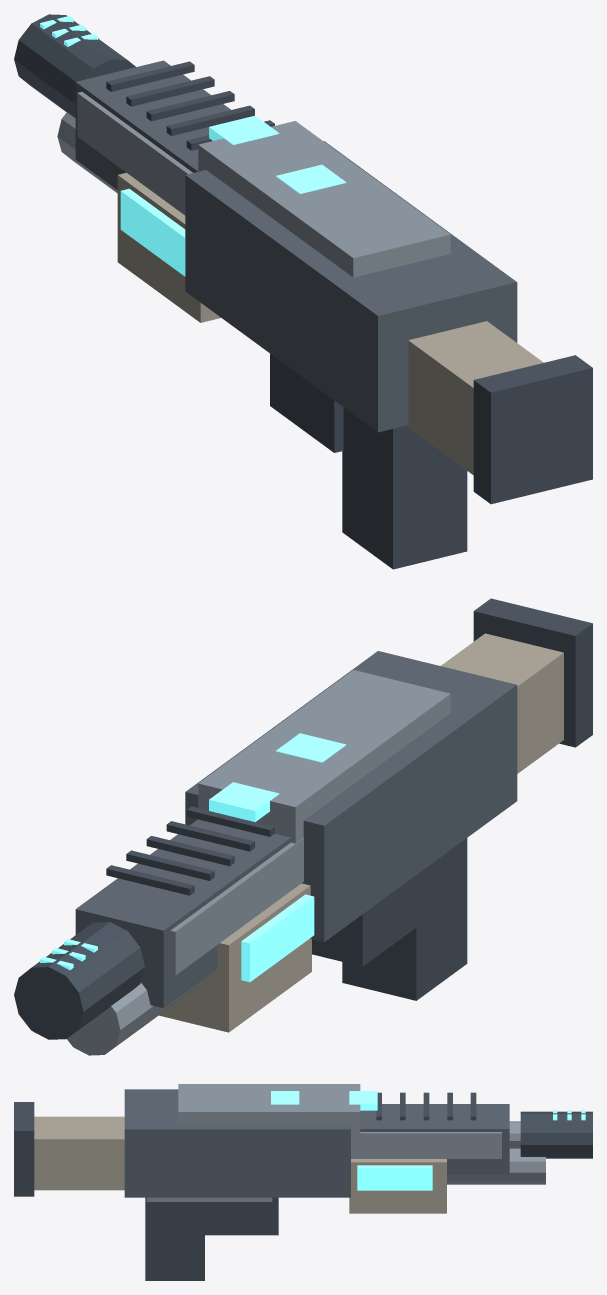
The model's file is shotgun.glb.
3 views of the same model, one above another, from view 1: azimuth 30°, elevation 25°; view 2: azimuth 150°, elevation 25°; view 3: azimuth 270°, elevation 25° (orthographic). The views are drawn at different scales.
Parts seen in each view (by area): view 1: body_material_0, body_material_2, body_material_1, body_material_3, body_material_4; view 2: body_material_0, body_material_2, body_material_1, body_material_3, body_material_4; view 3: body_material_0, body_material_1, body_material_2, body_material_3, body_material_4.
Part boxes in pixels (<box>): body_material_0: <box>75,60,517,432</box>; body_material_2: <box>14,14,592,569</box>; body_material_1: <box>57,90,450,277</box>; body_material_3: <box>117,172,543,474</box>; body_material_4: <box>40,16,346,276</box>; body_material_0: <box>75,651,517,1008</box>; body_material_2: <box>14,598,592,1039</box>; body_material_1: <box>67,670,450,1055</box>; body_material_3: <box>159,633,563,1032</box>; body_material_4: <box>40,733,346,982</box>; body_material_0: <box>124,1089,509,1197</box>; body_material_1: <box>146,1084,545,1201</box>; body_material_2: <box>14,1092,592,1280</box>; body_material_3: <box>34,1116,446,1213</box>; body_material_4: <box>271,1091,585,1190</box>.
Size of the model in its own units: 0.3 by 0.6065 by 1.84.
